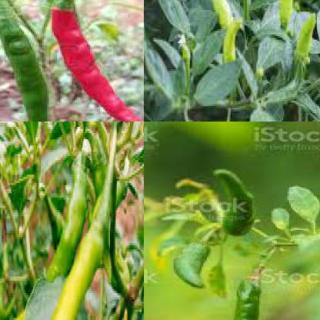green_chilli: (45, 199, 116, 319), (0, 0, 52, 121), (46, 160, 89, 281), (210, 168, 260, 240), (168, 239, 207, 292), (229, 275, 267, 319), (192, 0, 232, 30), (221, 18, 246, 62), (275, 0, 302, 32)
